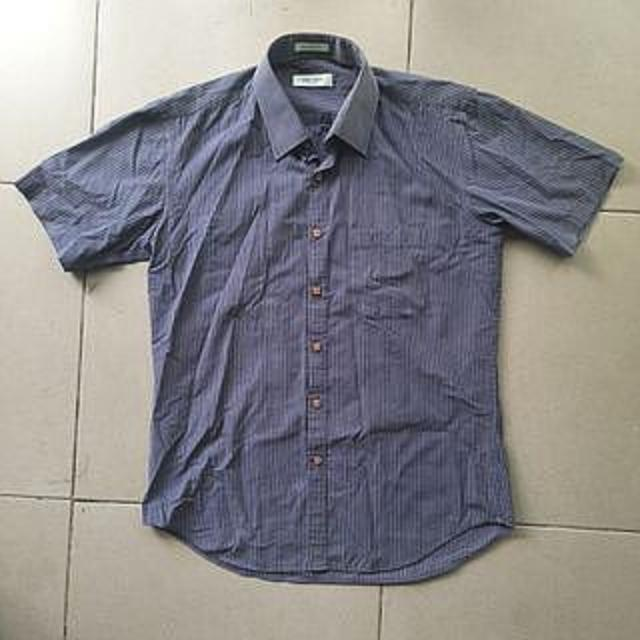SHIRT: (7, 28, 633, 590)
